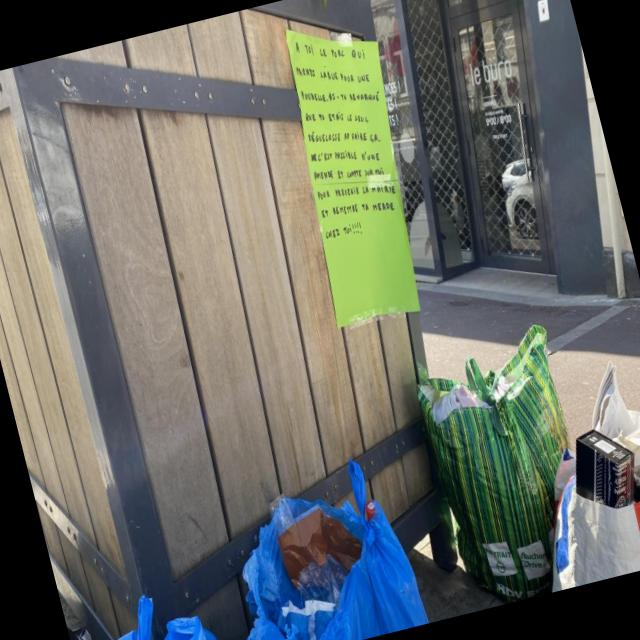garbage: (21, 290, 640, 640)
